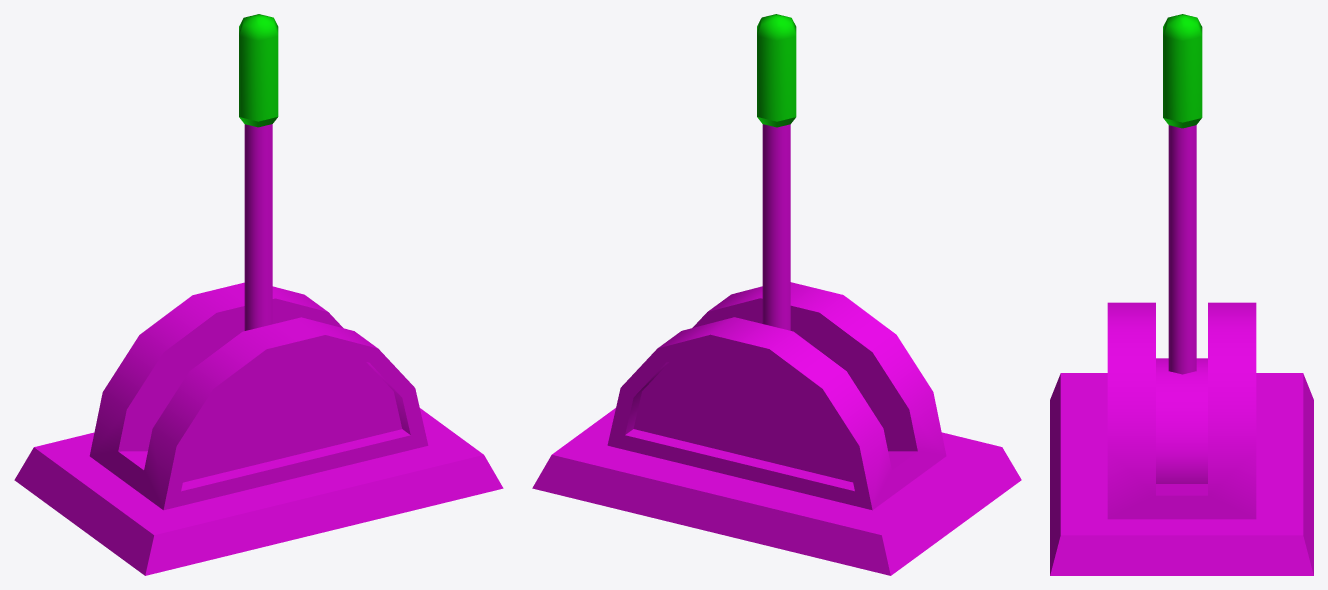
The model's file is Lever.fbx.
The picture shows the model from 3 angles, left to right: view 1: azimuth 30°, elevation 25°; view 2: azimuth 150°, elevation 25°; view 3: azimuth 270°, elevation 25°; orthographic projection.
Visible parts, largest first — view 1: Lever_Base, Lever_Handle; view 2: Lever_Base, Lever_Handle; view 3: Lever_Base, Lever_Handle.
Part boxes in pixels (left/top/right/bottom): Lever_Base: left=14, top=282, right=503, bottom=575; Lever_Handle: left=239, top=14, right=278, bottom=330; Lever_Base: left=532, top=282, right=1021, bottom=575; Lever_Handle: left=757, top=14, right=796, bottom=330; Lever_Base: left=1050, top=302, right=1313, bottom=575; Lever_Handle: left=1156, top=14, right=1207, bottom=483.
Bounding box in the file's own units: 58.57 × 78.01 × 37.04.
